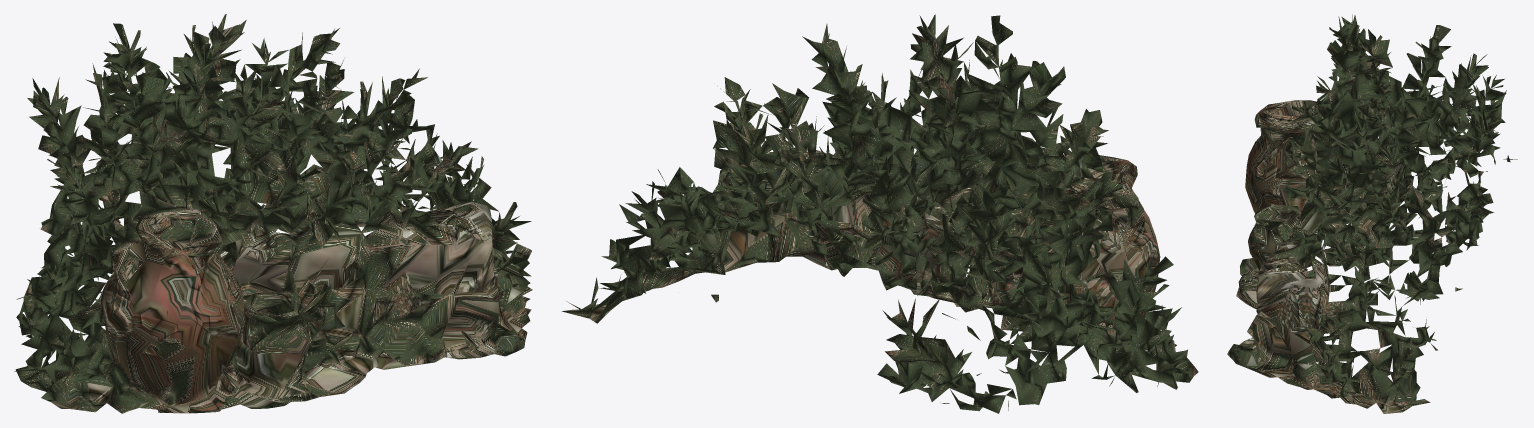
Rendered from olive-wall-cluster-a.glb.
3 views of the same model, side by side, from view 1: azimuth 30°, elevation 25°; view 2: azimuth 150°, elevation 25°; view 3: azimuth 270°, elevation 25° (orthographic). The views are drawn at different scales.
Parts seen in each view (by area): view 1: geometry_0; view 2: geometry_0; view 3: geometry_0.
Part boxes in pixels (left/top/right/bottom): geometry_0: left=14, top=14, right=532, bottom=413; geometry_0: left=562, top=14, right=1198, bottom=413; geometry_0: left=1227, top=14, right=1517, bottom=413.
Bounding box in the file's own units: 2.14 × 1.25 × 1.25.
1 material, 1 textured.
